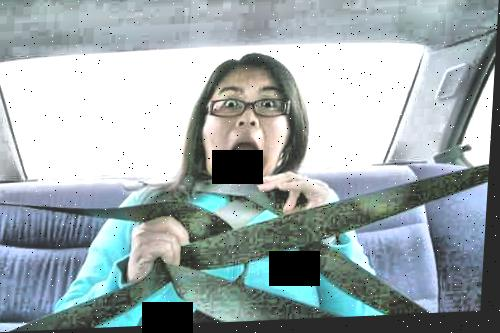seatbelt: (185, 163, 483, 267), (206, 169, 419, 309), (0, 180, 192, 316)
